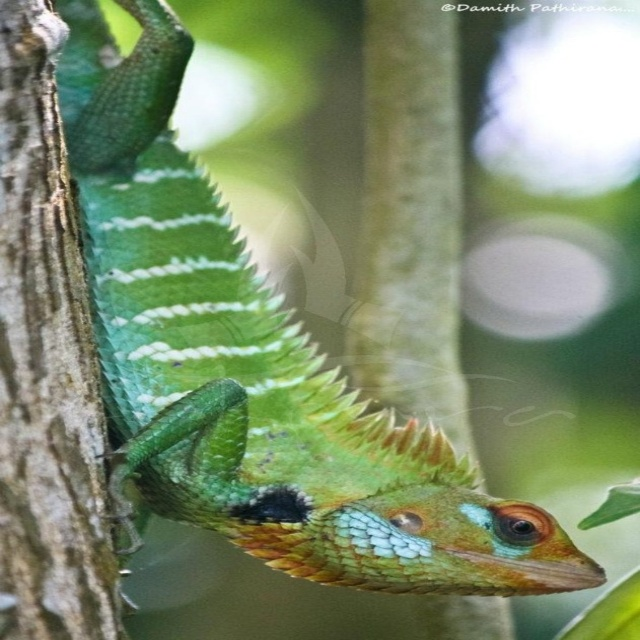Lizard: (49, 1, 604, 586)
